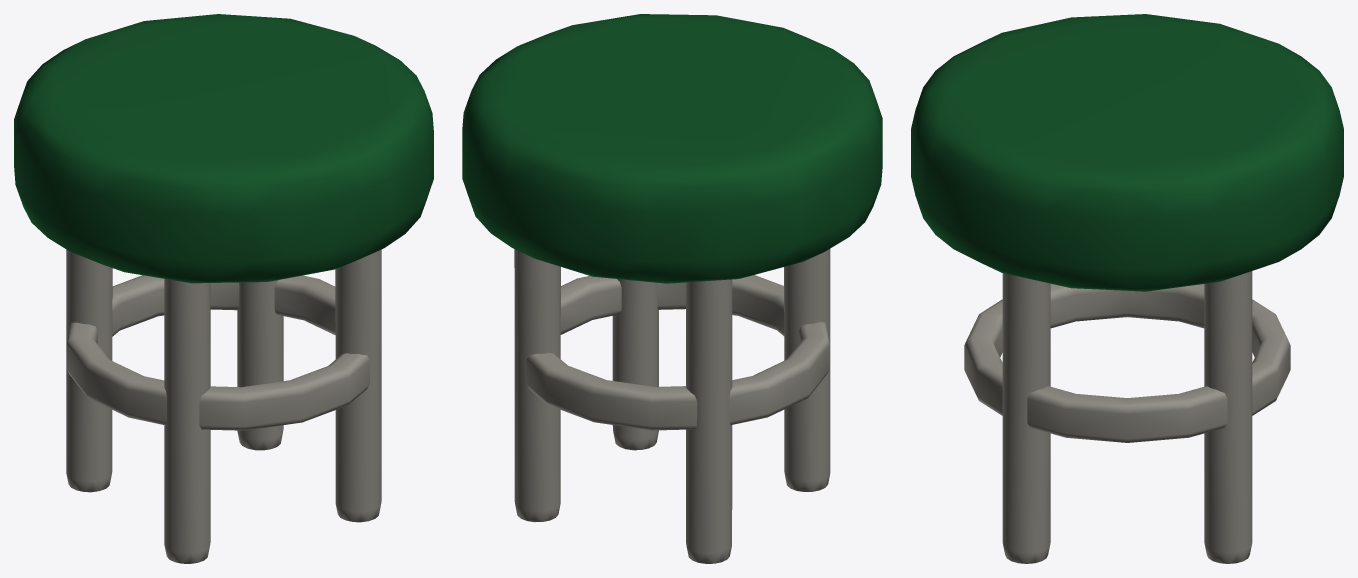
The model's file is stool_08_green.fbx.
3 views of the same model, side by side, from view 1: azimuth 30°, elevation 25°; view 2: azimuth 150°, elevation 25°; view 3: azimuth 270°, elevation 25° (orthographic). The views are drawn at different scales.
Visible parts, largest first — view 1: stool_08_green; view 2: stool_08_green; view 3: stool_08_green.
Part boxes in pixels (x1,y1,x2,y2): stool_08_green: [14, 14, 433, 563]; stool_08_green: [462, 14, 882, 563]; stool_08_green: [911, 14, 1343, 563].
Size of the model in its own units: 39.67 by 42.64 by 39.67.
2 materials, 2 textured.
